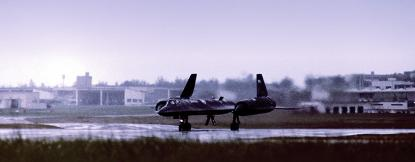Rafale: (149, 72, 302, 129)
